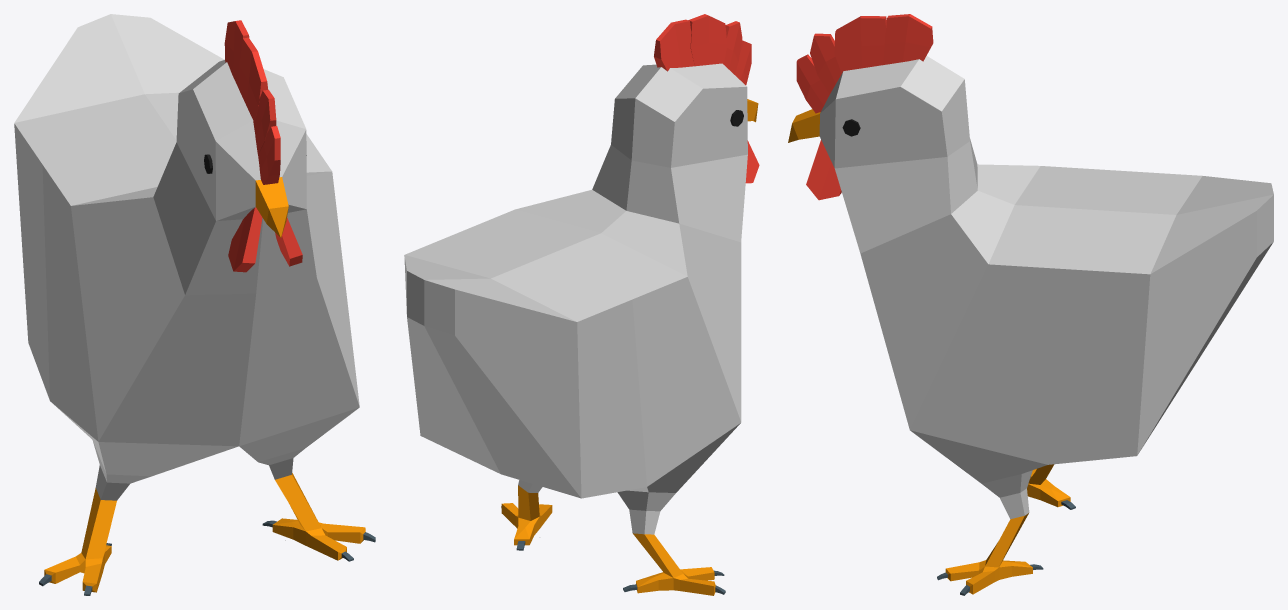
Rendered from Chicken2.glb.
3 views of the same model, side by side, from view 1: azimuth 30°, elevation 25°; view 2: azimuth 150°, elevation 25°; view 3: azimuth 270°, elevation 25° (orthographic). The views are drawn at different scales.
Parts seen in each view (by area): view 1: Cube%2E035_Cube%2E034_n3d; view 2: Cube%2E035_Cube%2E034_n3d; view 3: Cube%2E035_Cube%2E034_n3d.
Part boxes in pixels (box(x1,y1,x2,y2)): Cube%2E035_Cube%2E034_n3d: box(14, 14, 375, 595); Cube%2E035_Cube%2E034_n3d: box(404, 14, 759, 595); Cube%2E035_Cube%2E034_n3d: box(788, 14, 1273, 595).
Size of the model in its own units: 103 by 189 by 163.
